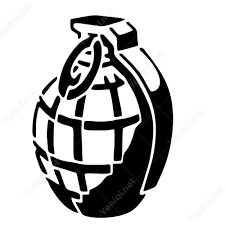e1: (30, 16, 171, 219)
